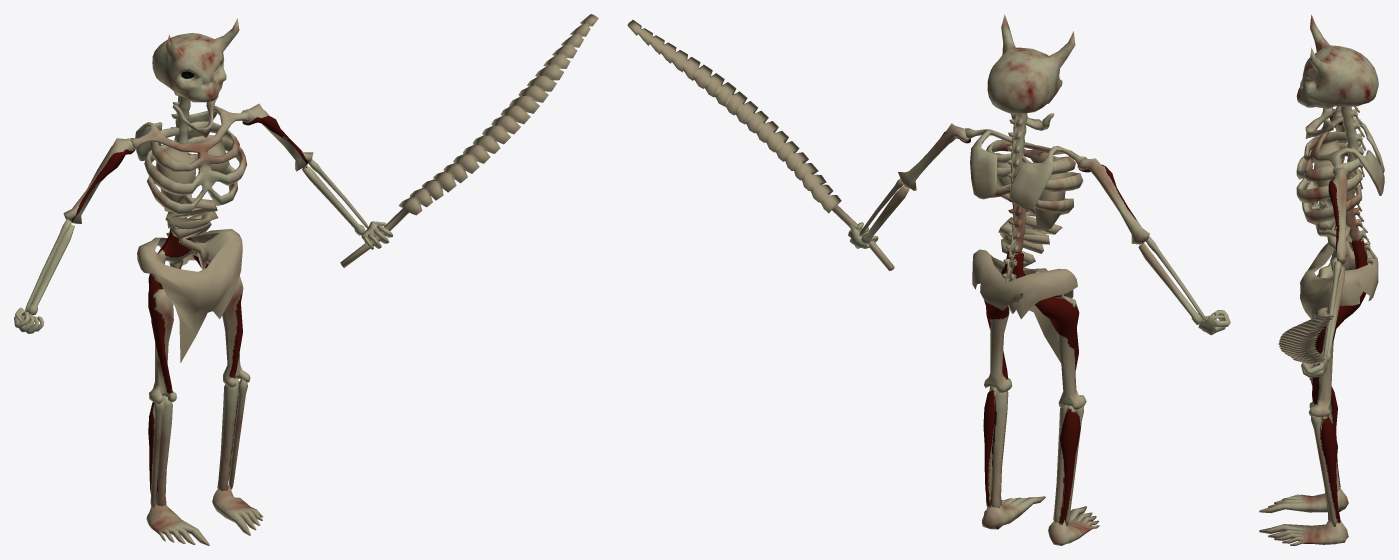
File: Skeleton_231107.fbx
3 views of the same model, side by side, from view 1: azimuth 30°, elevation 25°; view 2: azimuth 150°, elevation 25°; view 3: azimuth 270°, elevation 25° (orthographic).
Visible parts, largest first — view 1: CalfLowPoly.002; view 2: CalfLowPoly.002; view 3: CalfLowPoly.002.
Boxes of the visible parts, x1,y1,x2,y2 form: CalfLowPoly.002: (14, 14, 598, 545); CalfLowPoly.002: (627, 14, 1230, 545); CalfLowPoly.002: (1259, 14, 1384, 545).
Size of the model in its own units: 6.36 by 5.17 by 1.19.
